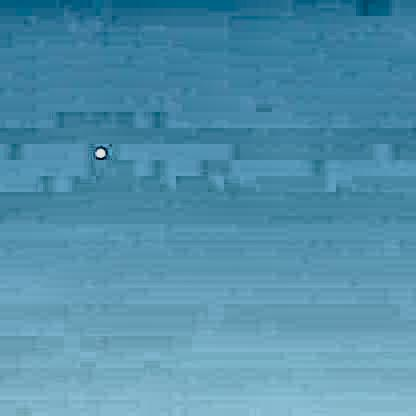golfball: (92, 144, 106, 158)
